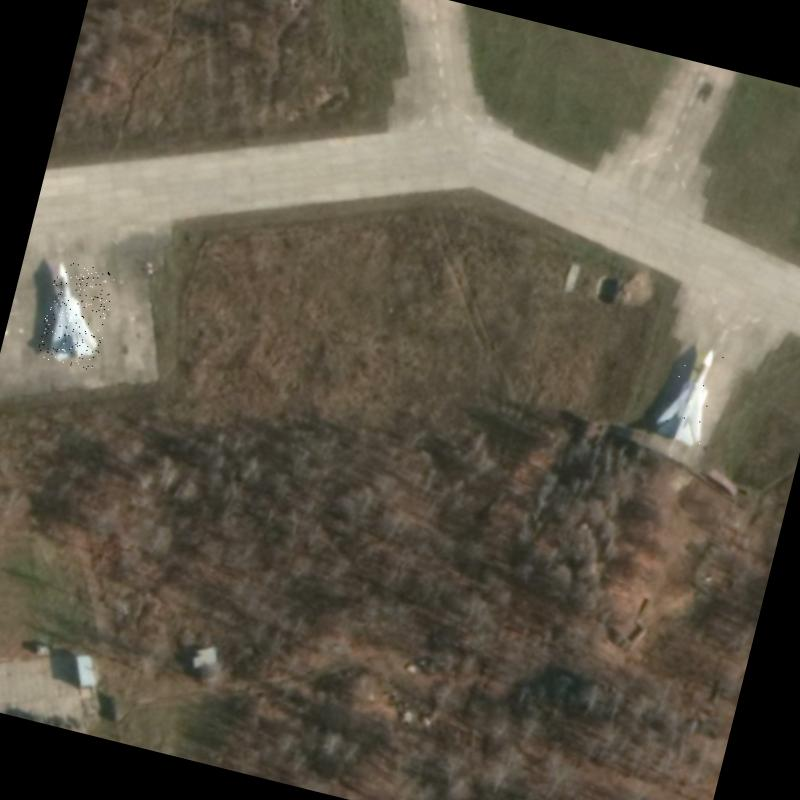A20: (34, 258, 118, 371), (650, 336, 726, 450)
